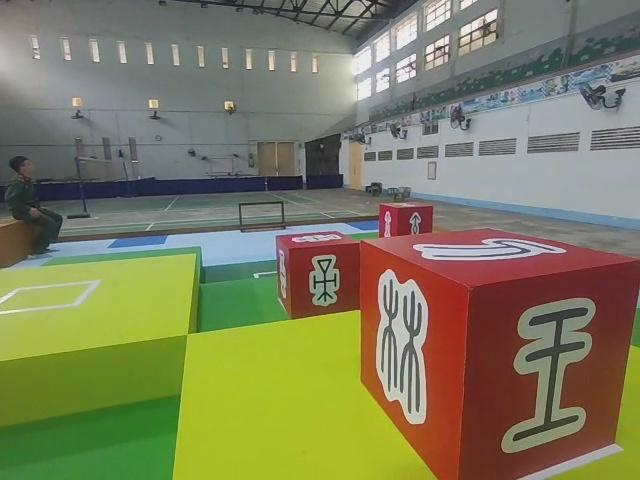R2 Fake: (359, 222, 639, 480)
R2 Real: (276, 228, 363, 326), (377, 201, 434, 241)
